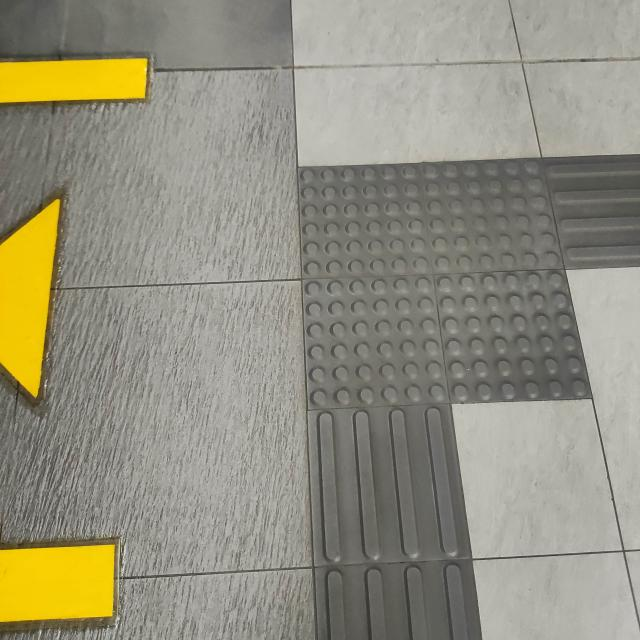kanan: (249, 115, 640, 469)
